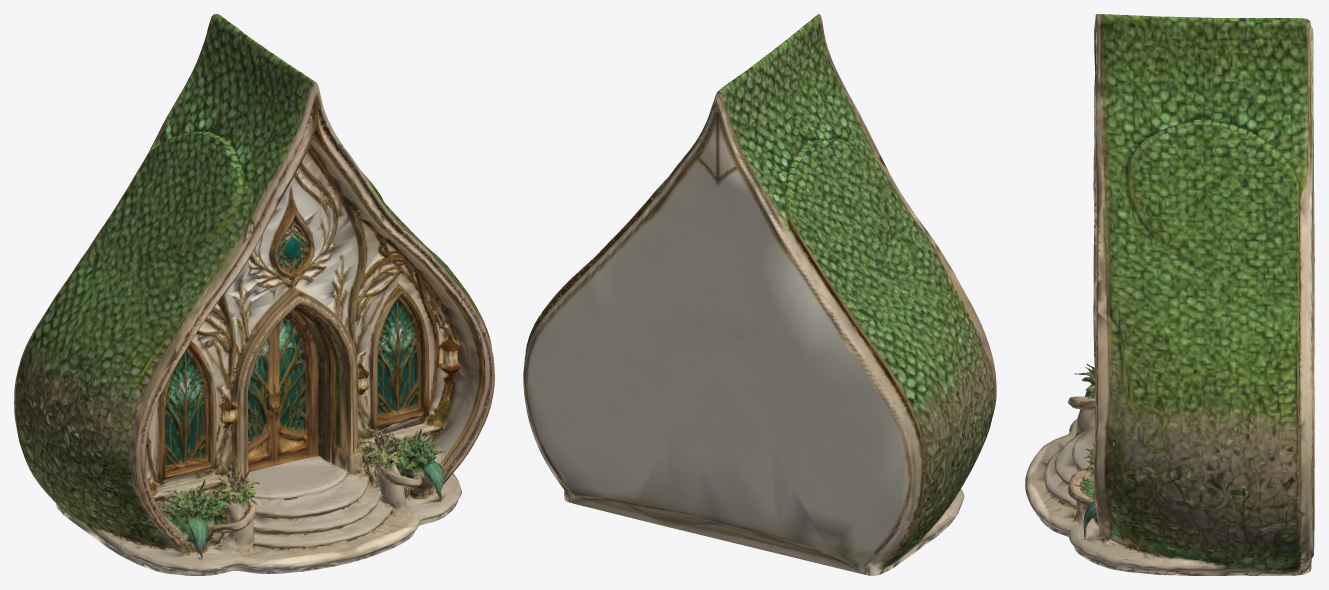
The model's file is Leafspire_Cathedral.glb.
3 views of the same model, side by side, from view 1: azimuth 30°, elevation 25°; view 2: azimuth 150°, elevation 25°; view 3: azimuth 270°, elevation 25° (orthographic). The views are drawn at different scales.
Parts seen in each view (by area): view 1: Leafspire_Cathedral; view 2: Leafspire_Cathedral; view 3: Leafspire_Cathedral.
Boxes of the visible parts, bbox=[...] form: Leafspire_Cathedral: bbox=[14, 14, 494, 575]; Leafspire_Cathedral: bbox=[523, 14, 996, 575]; Leafspire_Cathedral: bbox=[1025, 14, 1314, 575].
Bounding box in the file's own units: 1.8 × 1.9 × 1.04.
1 material, 1 textured.
